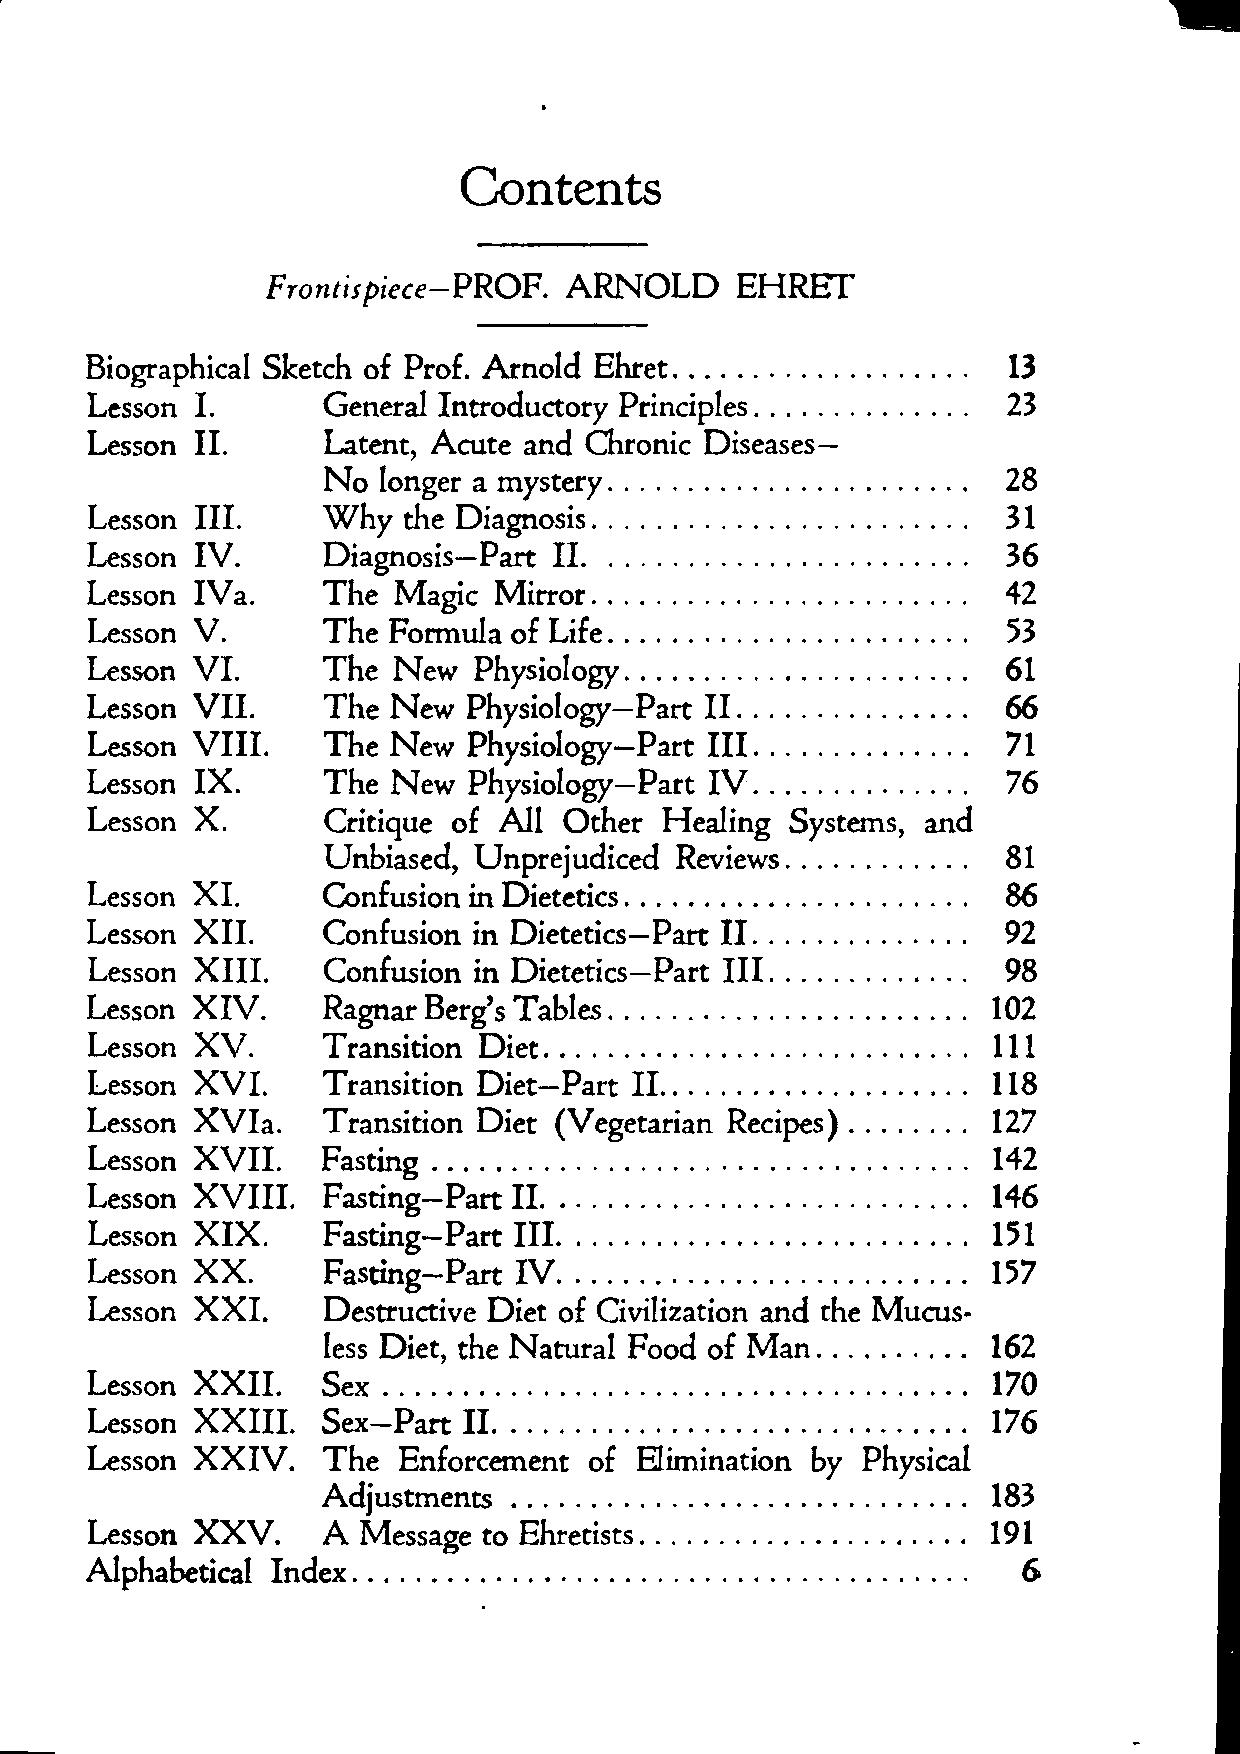TOC_chapter: (85, 803, 976, 876), (85, 1441, 976, 1514), (85, 1295, 974, 1363), (81, 427, 849, 498), (85, 1104, 840, 1143), (81, 391, 747, 425), (83, 914, 749, 949), (86, 953, 764, 986), (85, 692, 730, 727), (87, 727, 747, 761), (85, 765, 749, 797), (85, 652, 620, 691), (86, 990, 601, 1031), (89, 1516, 640, 1551), (86, 1064, 659, 1098), (82, 352, 670, 384), (83, 501, 585, 538), (87, 1219, 556, 1256), (85, 578, 584, 613), (85, 539, 578, 574), (89, 1180, 539, 1217), (87, 1257, 556, 1292), (85, 615, 603, 646), (85, 879, 619, 909), (86, 1404, 491, 1437), (87, 1031, 541, 1059), (86, 1143, 423, 1180), (81, 1553, 345, 1593), (86, 1369, 370, 1398)
TOC_pagenumber: (989, 1474, 1039, 1508), (988, 1178, 1040, 1209), (990, 1404, 1037, 1437), (985, 1516, 1037, 1546), (989, 1217, 1039, 1248), (990, 1366, 1035, 1398), (992, 1031, 1037, 1062), (990, 1329, 1036, 1359), (989, 1257, 1036, 1287), (990, 1067, 1036, 1096), (990, 1106, 1036, 1135), (988, 994, 1037, 1021), (1002, 768, 1045, 798), (992, 1143, 1037, 1172), (1004, 349, 1040, 382), (1001, 921, 1041, 947), (1002, 956, 1039, 985), (1002, 729, 1039, 757), (1004, 463, 1037, 493), (1005, 539, 1039, 569), (1004, 840, 1033, 874), (1002, 577, 1037, 605), (1002, 656, 1037, 683), (1002, 880, 1037, 907), (1006, 388, 1037, 417), (1006, 692, 1037, 722), (1004, 615, 1036, 643), (1004, 505, 1033, 531), (1017, 1555, 1041, 1584)
author: (264, 263, 867, 305)
chapter: (454, 158, 666, 213)
